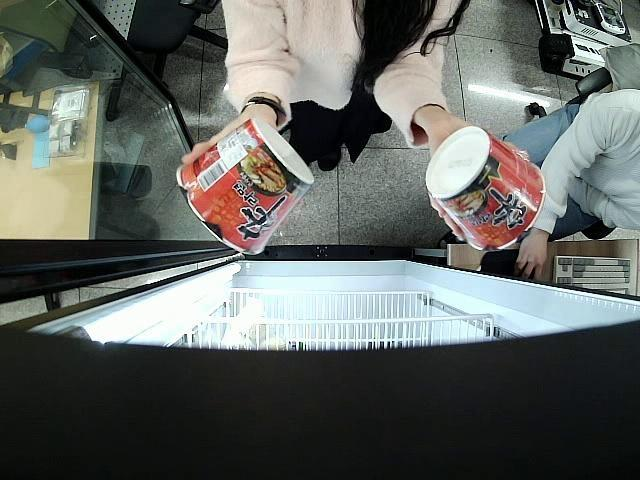01_ShinRamen_L: (174, 118, 315, 256), (425, 124, 547, 252)
